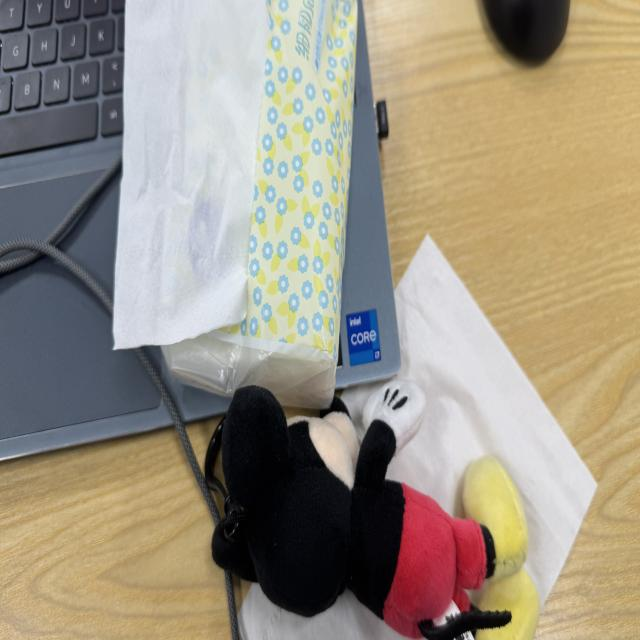mickey: (213, 381, 539, 639)
tissue: (163, 0, 357, 407), (388, 237, 595, 603), (114, 0, 269, 348)
